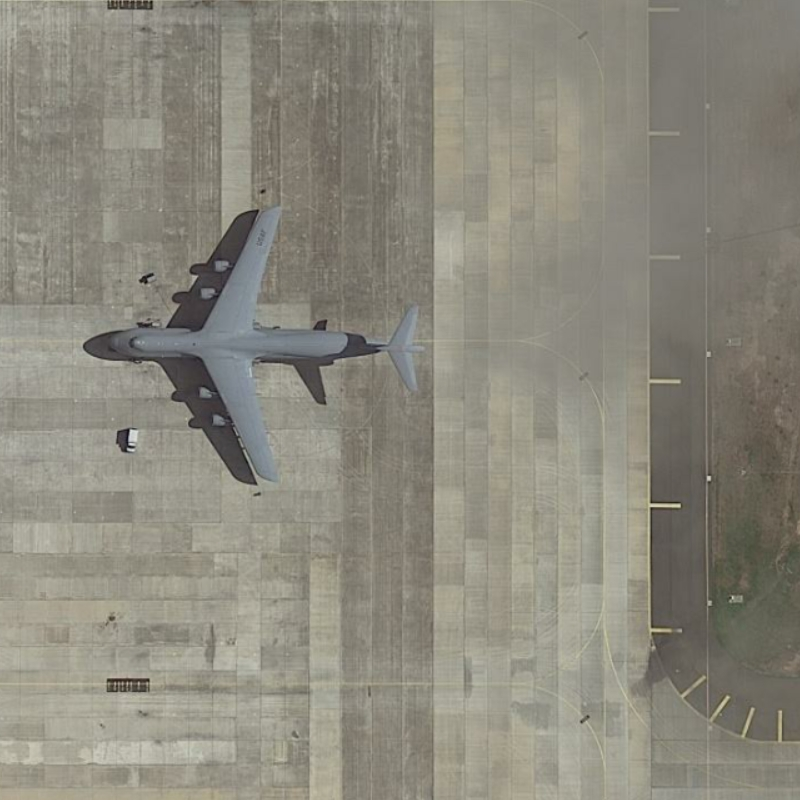A4: (101, 200, 432, 492)
